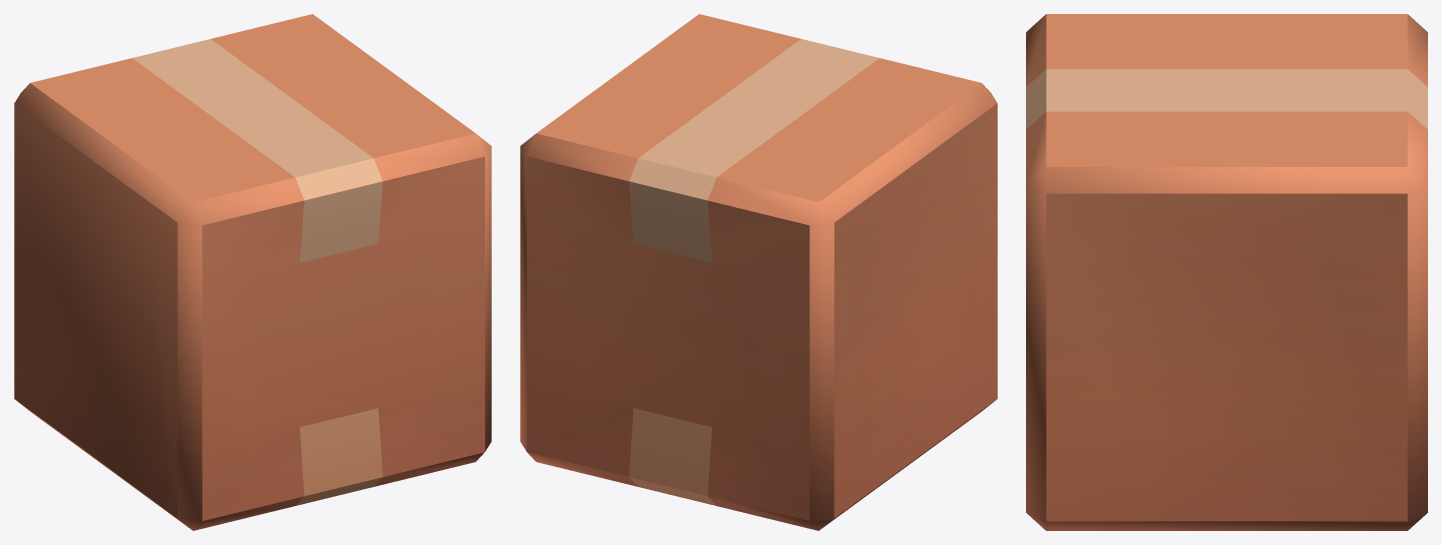
File: k-car-box.glb
The picture shows the model from 3 angles, left to right: view 1: azimuth 30°, elevation 25°; view 2: azimuth 150°, elevation 25°; view 3: azimuth 270°, elevation 25°; orthographic projection. The views are drawn at different scales.
Parts seen in each view (by area): view 1: box; view 2: box; view 3: box.
Part boxes in pixels (x1,y1,x2,y2): box: (14, 14, 491, 530); box: (520, 14, 997, 530); box: (1026, 14, 1427, 530).
Bounding box in the file's own units: 0.715 × 0.715 × 0.715.
1 material, 1 textured.
